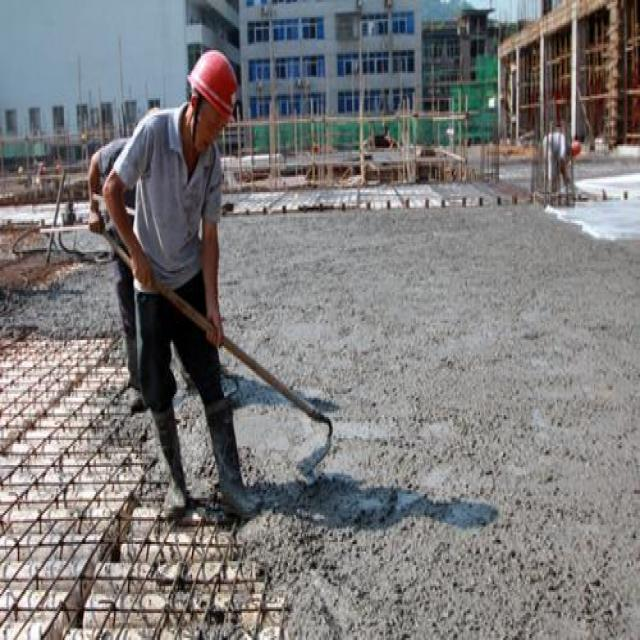head: (182, 50, 237, 156), (570, 136, 585, 160)
